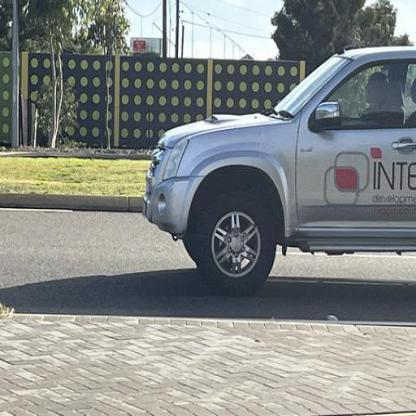Tire: (196, 188, 276, 294)
